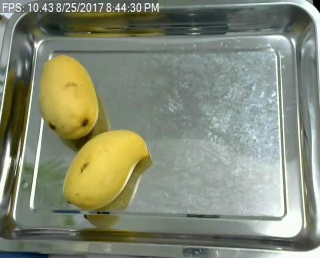Mango: (61, 127, 151, 211), (37, 51, 100, 141)
